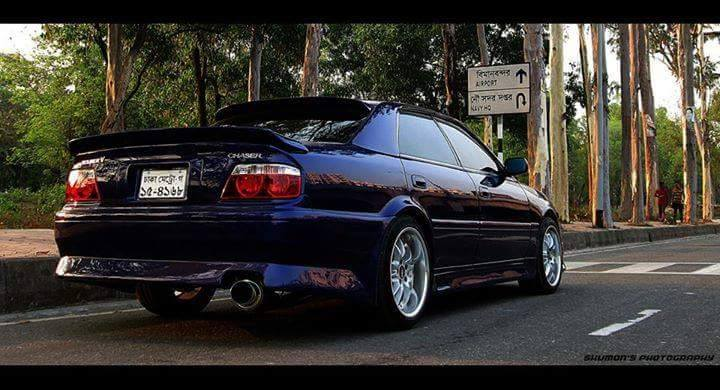registration_plate: (137, 168, 187, 199)
